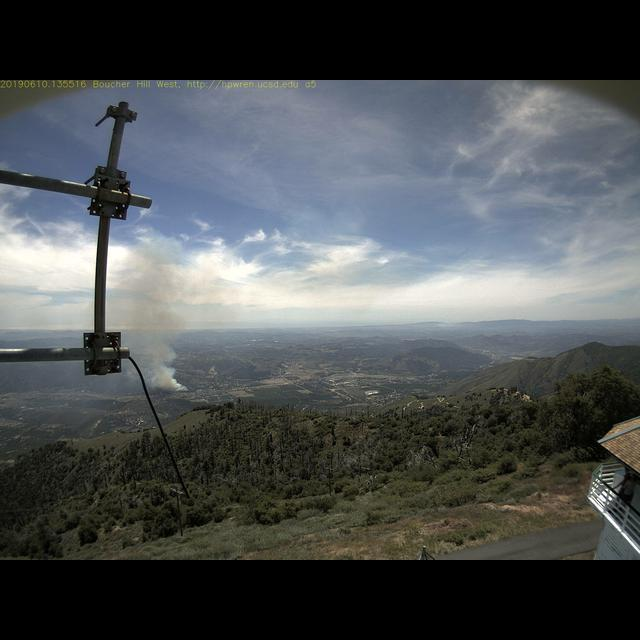Smoke: (111, 241, 191, 392)
